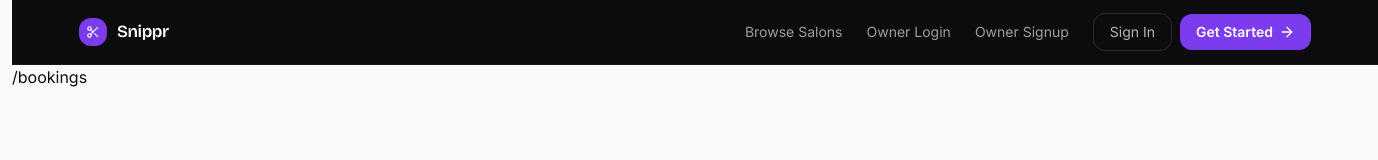
Scenario: Header — signed out › Owner Signup → /owner-register (unchanged destination)
Click the button "Owner Signup": (1022,32) x1=975 y1=22 x2=1069 y2=42
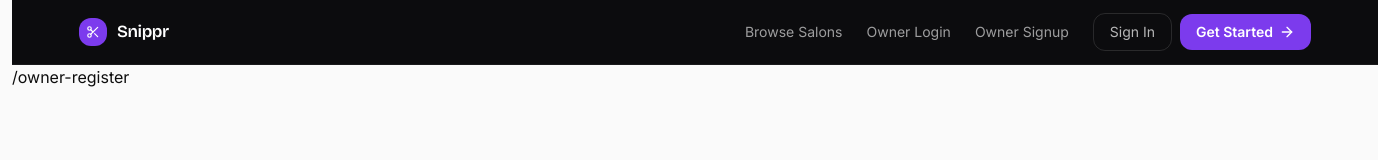
Expected: the text with test id "location" reads "/owner-register", x1=12 y1=67 x2=129 y2=87
